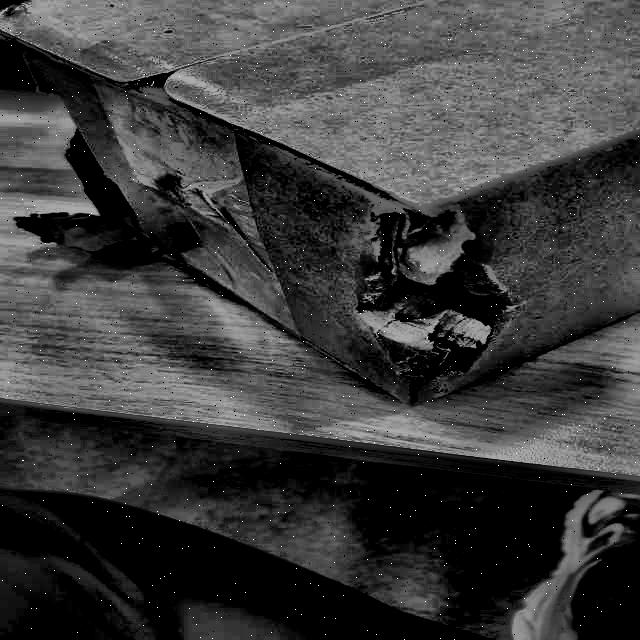box: (0, 0, 639, 414)
hole: (365, 205, 511, 373), (58, 134, 154, 241)
